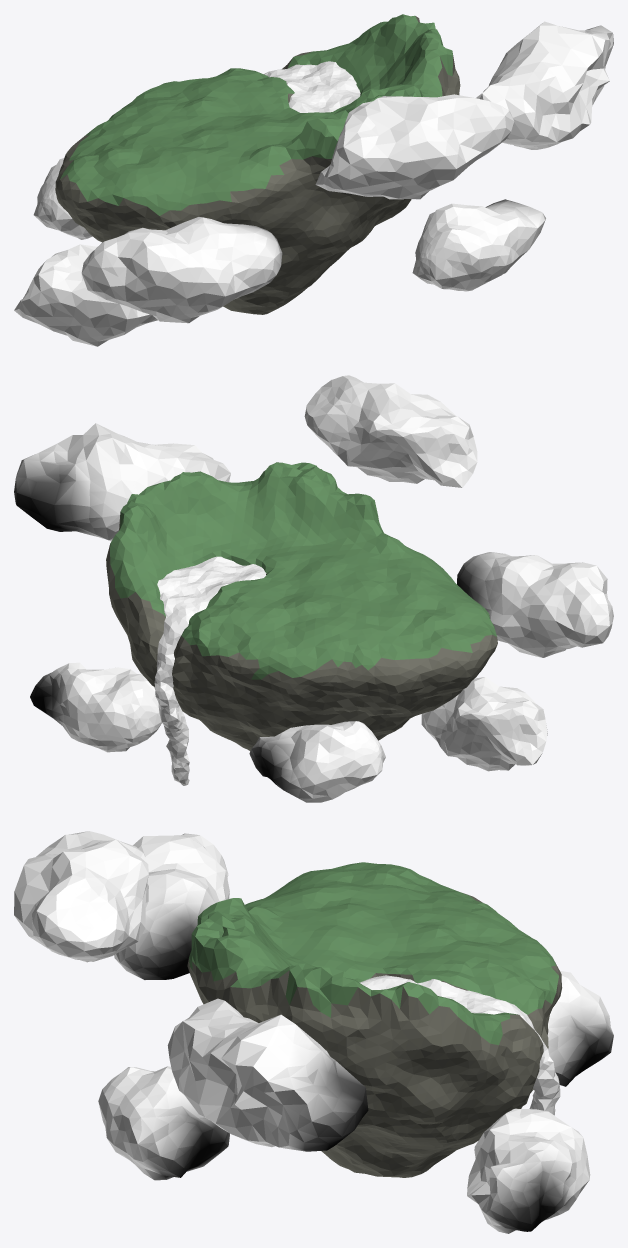
The model's file is floating_island.814c90f6.glb.
3 renders of one model, top to bottom at view 1: azimuth 30°, elevation 25°; view 2: azimuth 150°, elevation 25°; view 3: azimuth 270°, elevation 25°, orthographic. The views are drawn at different scales.
Parts seen in each view (by area): view 1: Icosphere_1, Icosphere.019_7, Icosphere.011_9, Icosphere.008_4, Icosphere.021_8, Icosphere.018_6, Icosphere.001_2, Icosphere.004_3; view 2: Icosphere_1, Icosphere.011_9, Icosphere.008_4, Icosphere.019_7, Icosphere.017_5, Icosphere.018_6, Icosphere.004_3, Icosphere.001_2; view 3: Icosphere_1, Icosphere.008_4, Icosphere.011_9, Icosphere.017_5, Icosphere.019_7, Icosphere.021_8, Icosphere.004_3, Icosphere.001_2.
Boxes of the visible parts, <box> form: Icosphere_1: <box>55,14,460,314</box>; Icosphere.019_7: <box>81,217,282,323</box>; Icosphere.011_9: <box>315,94,514,199</box>; Icosphere.008_4: <box>476,21,613,149</box>; Icosphere.021_8: <box>412,199,545,291</box>; Icosphere.018_6: <box>14,244,157,346</box>; Icosphere.001_2: <box>264,61,360,112</box>; Icosphere.004_3: <box>33,158,92,239</box>; Icosphere_1: <box>106,462,497,750</box>; Icosphere.011_9: <box>304,375,477,487</box>; Icosphere.008_4: <box>14,423,230,541</box>; Icosphere.019_7: <box>457,552,613,657</box>; Icosphere.017_5: <box>30,662,161,752</box>; Icosphere.018_6: <box>421,677,547,771</box>; Icosphere.004_3: <box>249,721,385,802</box>; Icosphere.001_2: <box>154,556,266,785</box>; Icosphere_1: <box>187,862,562,1177</box>; Icosphere.008_4: <box>167,998,368,1151</box>; Icosphere.011_9: <box>14,831,148,962</box>; Icosphere.017_5: <box>467,1108,590,1233</box>; Icosphere.019_7: <box>114,833,229,979</box>; Icosphere.021_8: <box>98,1066,229,1180</box>; Icosphere.004_3: <box>547,971,613,1086</box>; Icosphere.001_2: <box>359,975,560,1115</box>.
Size of the model in its own units: 39.2 by 18.98 by 30.16.
